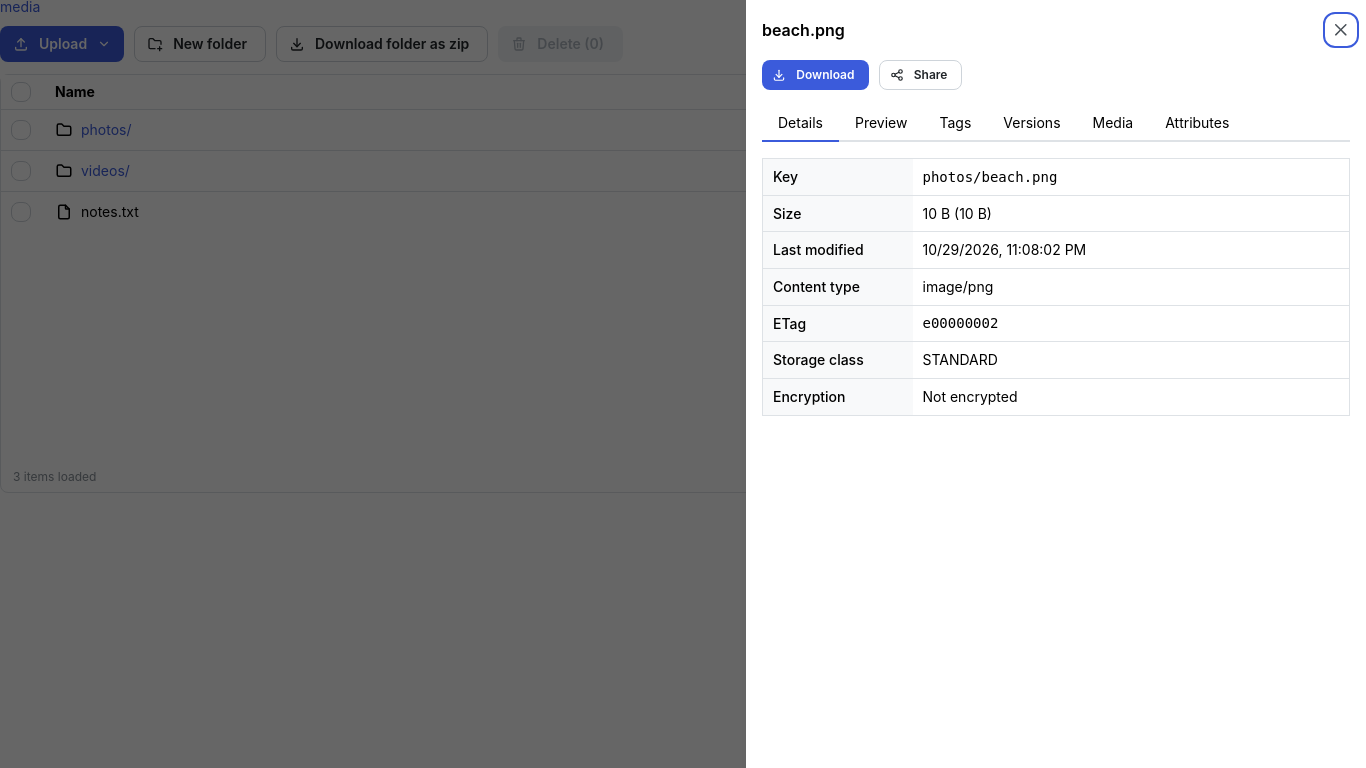
Scenario: ObjectMediaPanel › shows stale image variants without serving them
The width and height of the screenshot is (1366, 768).
Click the tab "Media".
click(1113, 124)  # box [1076,106,1149,142]
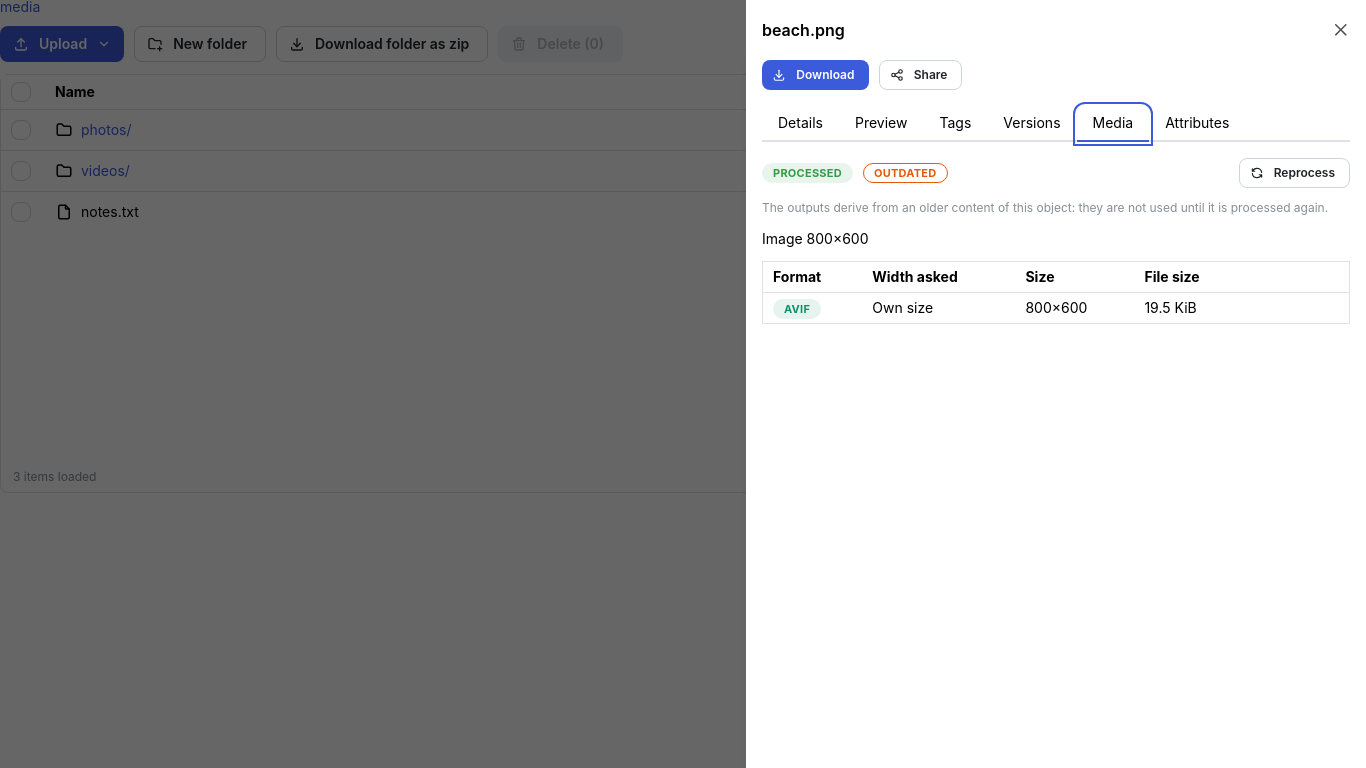
Result: the text "AVIF" is shown at [784,300,810,318]
Result: the text "Outdated" is shown at [874,164,936,182]
